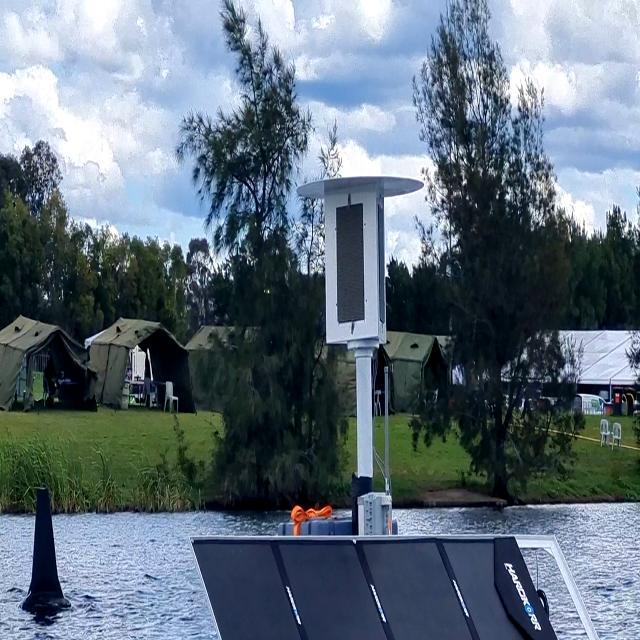led: (328, 196, 373, 329)
